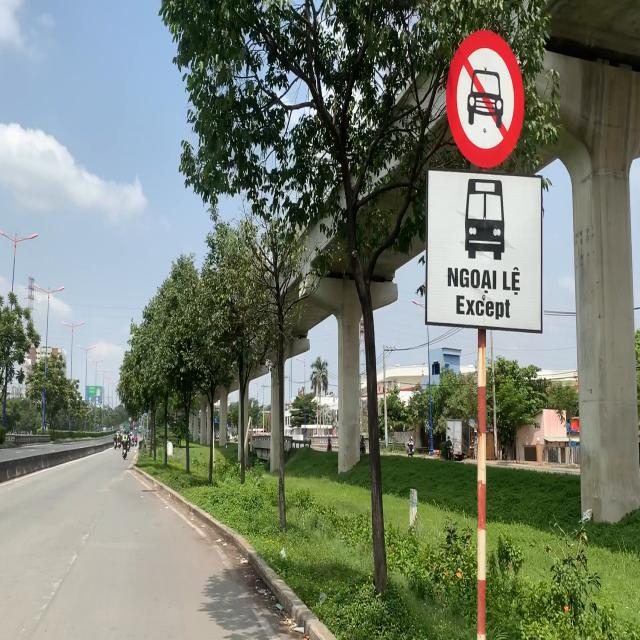Cam con lai: (448, 28, 524, 166)
